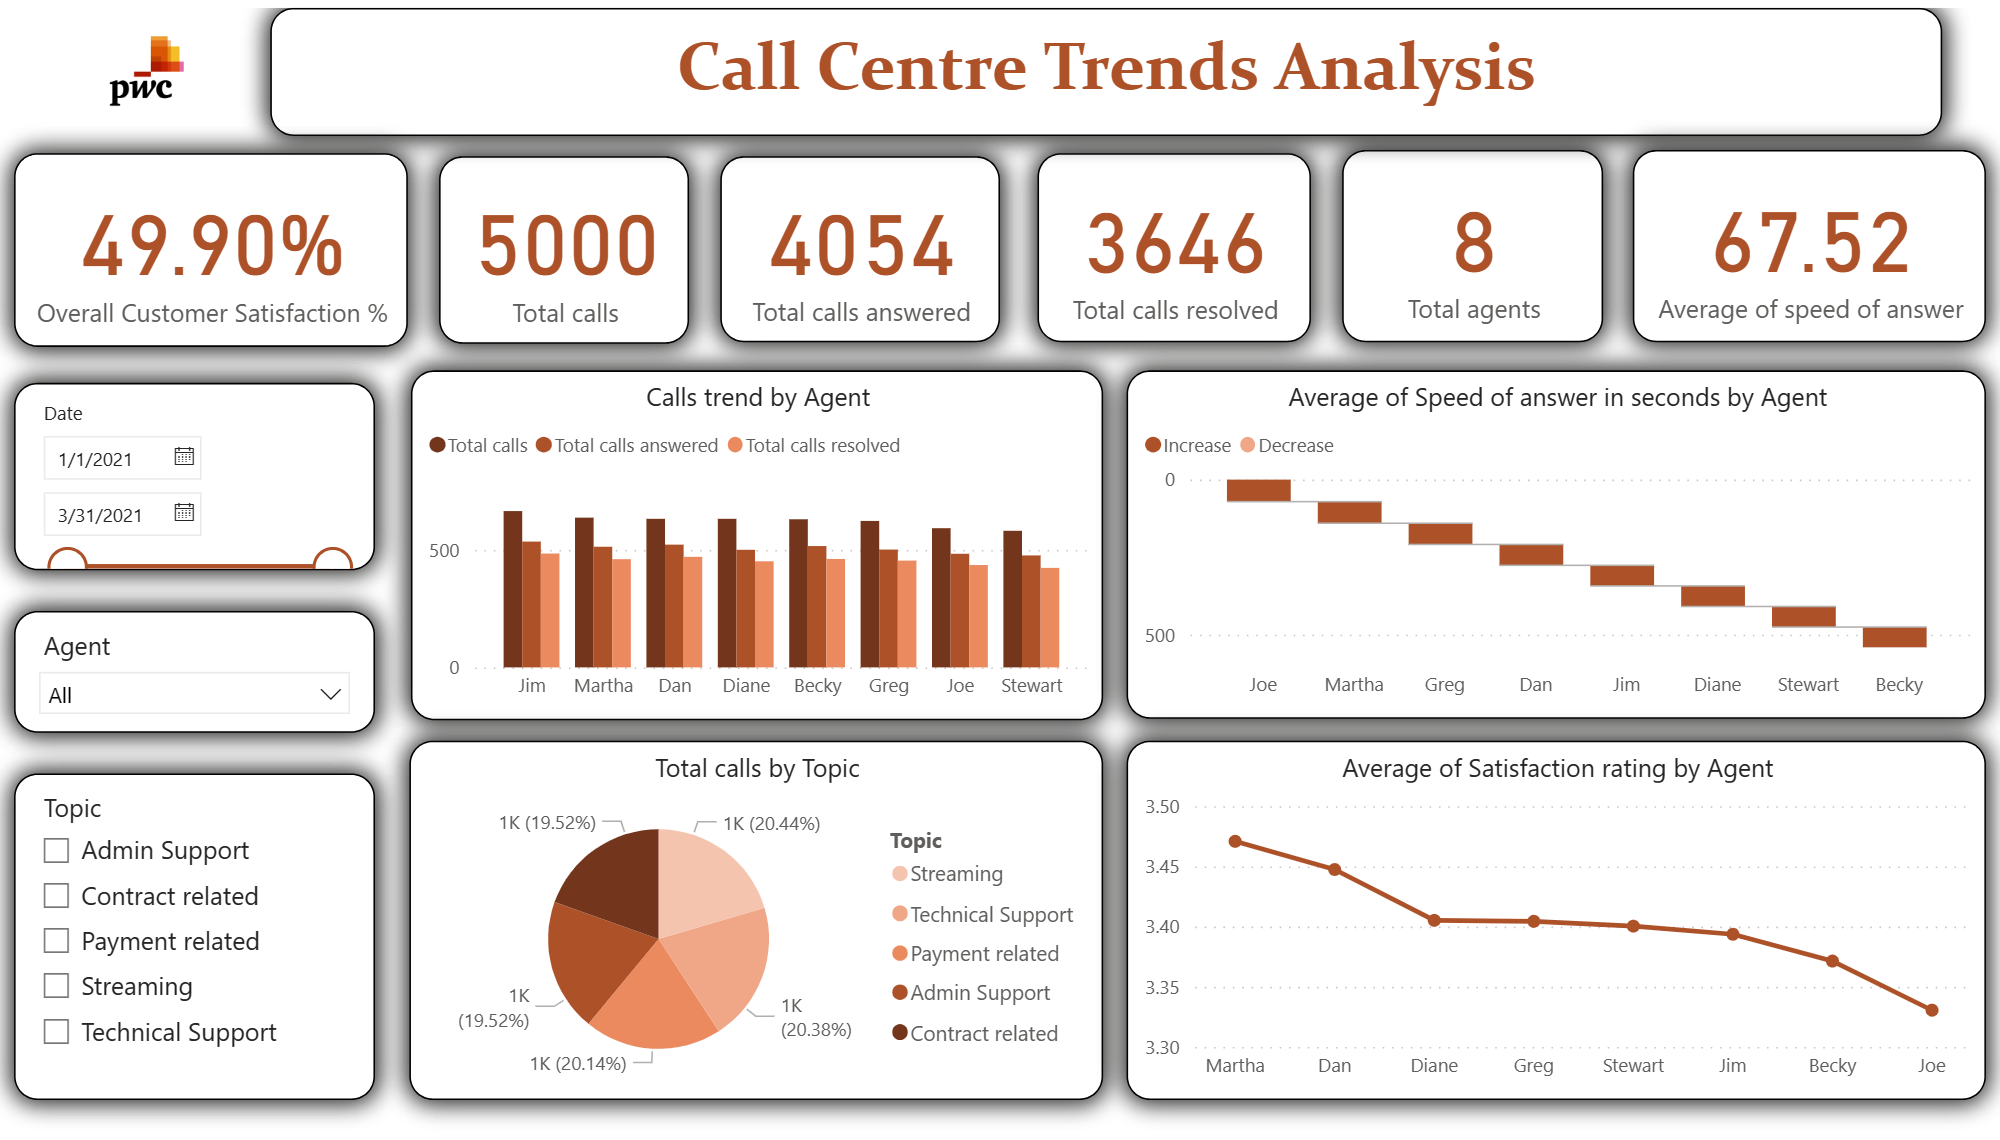

The page's visual inventory and layout, read from the dashboard file:
{"tool":"powerbi","page":{"name":"Page 1","canvas":[1280,720],"ordinal":0},"visuals":[{"type":"card","fields":{"Values":["Sheet1.Total calls"]},"box":[280.6,94.5,159.9,119.7],"z":1000},{"type":"card","fields":{"Values":["Sheet1.Total calls answered"]},"box":[460.6,94.5,179,118.7],"z":2000},{"type":"card","fields":{"Values":["Sheet1.Total calls resolved"]},"box":[663.8,92.5,175,120.7],"z":3000},{"type":"slicer","fields":{"Values":["Sheet1.Date"]},"box":[9.1,240.4,231.3,119.7],"z":4000},{"type":"card","fields":{"Values":["Sheet1.Total agents"]},"box":[858.9,90.5,167,122.7],"z":5000},{"type":"slicer","fields":{"Values":["Sheet1.Agent"]},"box":[9.1,386.2,231.3,78.5],"z":6000},{"type":"slicer","fields":{"Values":["Sheet1.Topic"]},"box":[9.1,489.8,231.3,209.2],"z":7000},{"type":"image","box":[0,0,188.1,82.5],"z":8000},{"type":"textbox","box":[173,0,1070.1,82.5],"z":9000},{"type":"card","fields":{"Values":["Sheet1.Average of speed of answer"]},"box":[1045,90.5,226.3,122.7],"z":9001},{"type":"card","fields":{"Values":["Sheet1.Overall Customer Satisfaction %"]},"box":[9.1,92.5,252.4,123.7],"z":9002},{"type":"clusteredColumnChart","title":"Calls trend by Agent","fields":{"Category":["Sheet1.Agent"],"Y":["Sheet1.Total calls","Sheet1.Total calls answered","Sheet1.Total calls resolved"]},"box":[262.5,232.3,442.5,224.3],"z":9003},{"type":"waterfallChart","fields":{"Category":["Sheet1.Agent"],"Y":["Sheet1.Speed of answer in seconds"]},"box":[721.1,232.3,550.2,223.3],"z":9004},{"type":"pieChart","fields":{"Category":["Sheet1.Topic"],"Y":["Sheet1.Total calls"]},"box":[261.5,468.7,443.5,230.3],"z":9005},{"type":"lineChart","fields":{"Category":["Sheet1.Agent"],"Y":["Sheet1.Satisfaction rating"]},"box":[721.1,468.7,550.2,230.3],"z":9006}]}

Visuals, with their boxes in screenshot pixels (x1, y1, x2, y2), scaled from the page's 1280x720 canvas onto the 2000x1140 screenshot:
card - Sheet1.Total calls: box(438, 150, 688, 339)
card - Sheet1.Total calls answered: box(720, 150, 999, 338)
card - Sheet1.Total calls resolved: box(1037, 146, 1311, 338)
slicer - Sheet1.Date: box(14, 381, 376, 570)
card - Sheet1.Total agents: box(1342, 143, 1603, 338)
slicer - Sheet1.Agent: box(14, 611, 376, 736)
slicer - Sheet1.Topic: box(14, 776, 376, 1107)
image: box(0, 0, 294, 131)
textbox: box(270, 0, 1942, 131)
card - Sheet1.Average of speed of answer: box(1633, 143, 1986, 338)
card - Sheet1.Overall Customer Satisfaction %: box(14, 146, 409, 342)
"Calls trend by Agent" clusteredColumnChart: box(410, 368, 1102, 723)
waterfallChart - Sheet1.Agent x Sheet1.Speed of answer in seconds: box(1127, 368, 1986, 721)
pieChart - Sheet1.Topic x Sheet1.Total calls: box(409, 742, 1102, 1107)
lineChart - Sheet1.Agent x Sheet1.Satisfaction rating: box(1127, 742, 1986, 1107)
